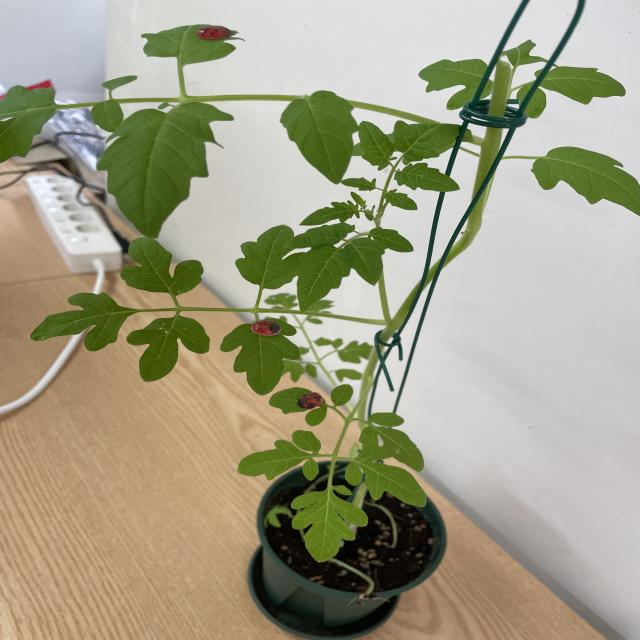bug: (279, 383, 341, 413), (245, 311, 286, 343), (189, 22, 233, 45)
